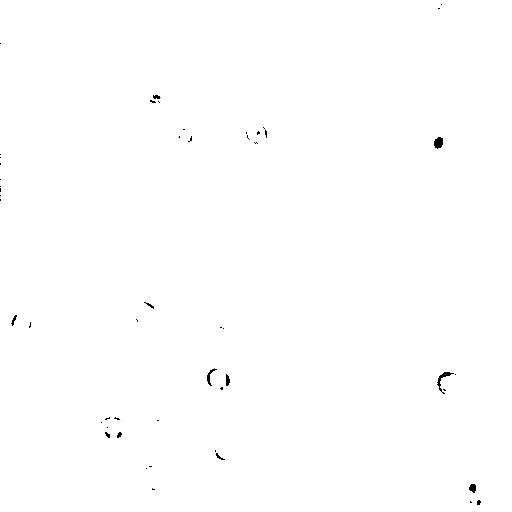micro-algae: (61, 32, 114, 88), (417, 118, 457, 163), (453, 469, 494, 511), (211, 158, 249, 203), (135, 460, 171, 492), (96, 414, 130, 445), (127, 298, 160, 327), (422, 2, 455, 29), (169, 119, 198, 149), (144, 395, 174, 421), (8, 307, 33, 336), (205, 362, 230, 391), (435, 370, 462, 396), (213, 433, 236, 461), (245, 119, 270, 144), (225, 0, 267, 9)
